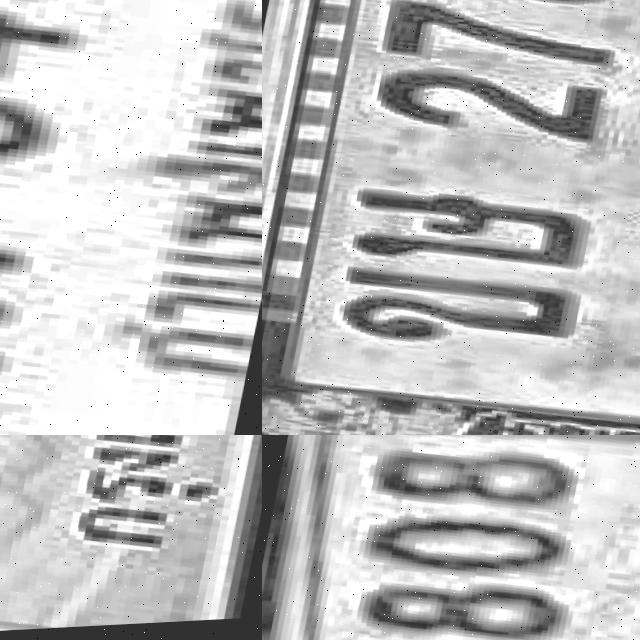license-plate: (262, 0, 640, 435), (0, 0, 262, 435), (262, 435, 640, 640), (0, 435, 262, 640)
